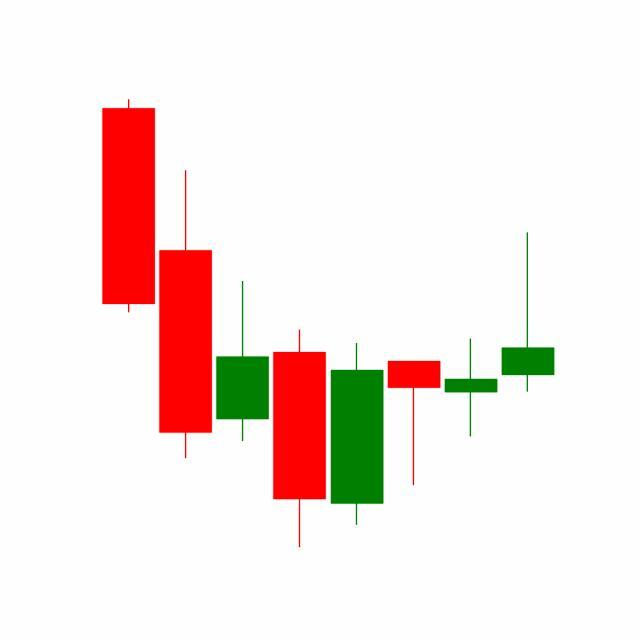Hikkake Pattern: (214, 277, 501, 549)
